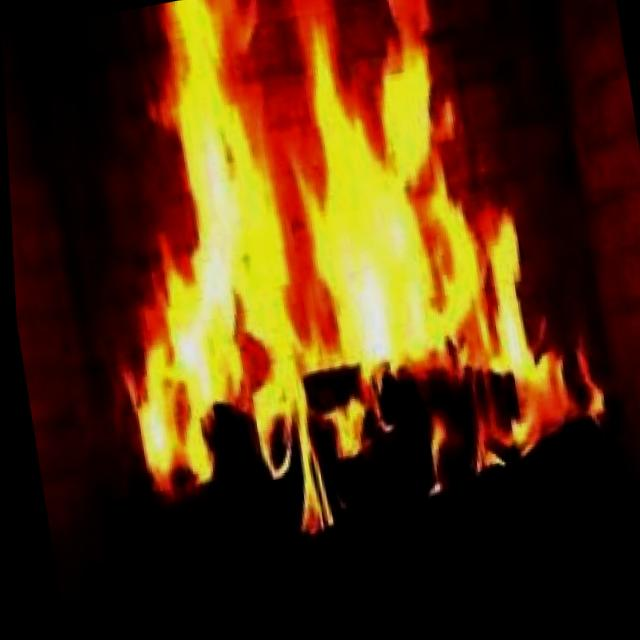helmet: (55, 0, 618, 589)
